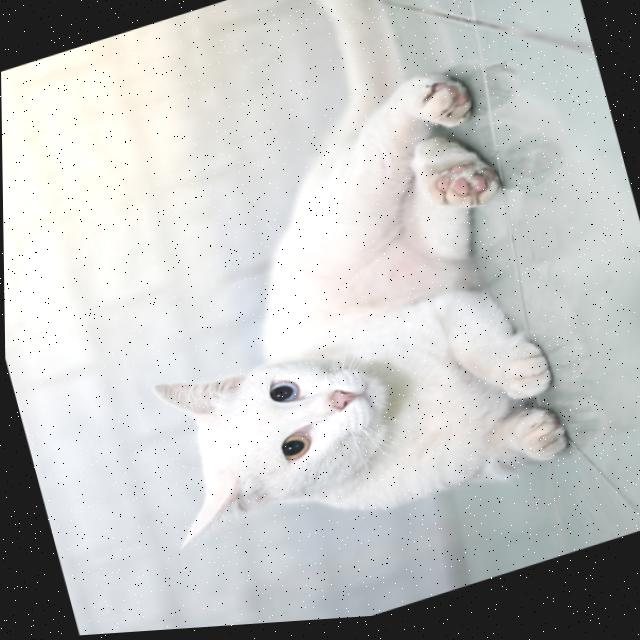Khao Manee: (39, 0, 585, 593)
